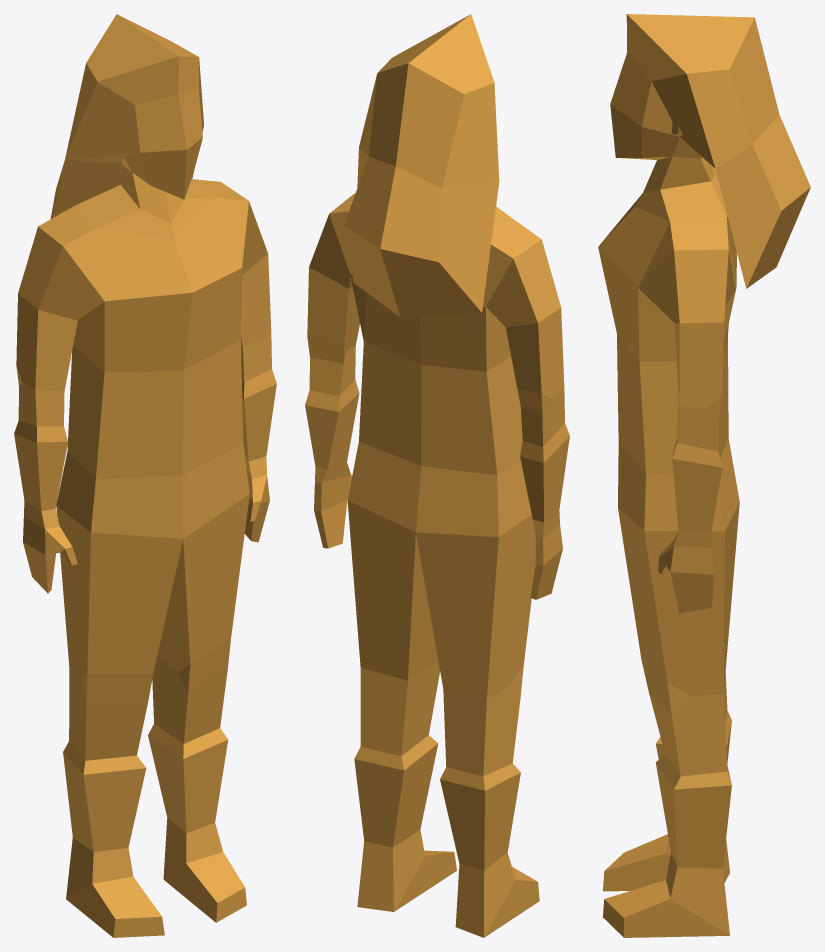
File: woman-metalhead.fbx
The picture shows the model from 3 angles, left to right: view 1: azimuth 30°, elevation 25°; view 2: azimuth 150°, elevation 25°; view 3: azimuth 270°, elevation 25°; orthographic projection. The views are drawn at different scales.
Parts seen in each view (by area): view 1: woman-metalhead; view 2: woman-metalhead; view 3: woman-metalhead.
Part boxes in pixels (x1,y1,x2,y2): woman-metalhead: (14,14,276,937); woman-metalhead: (305,14,569,937); woman-metalhead: (598,14,810,937).
Bounding box in the file's own units: 0.5391 × 1.86 × 0.4019.
